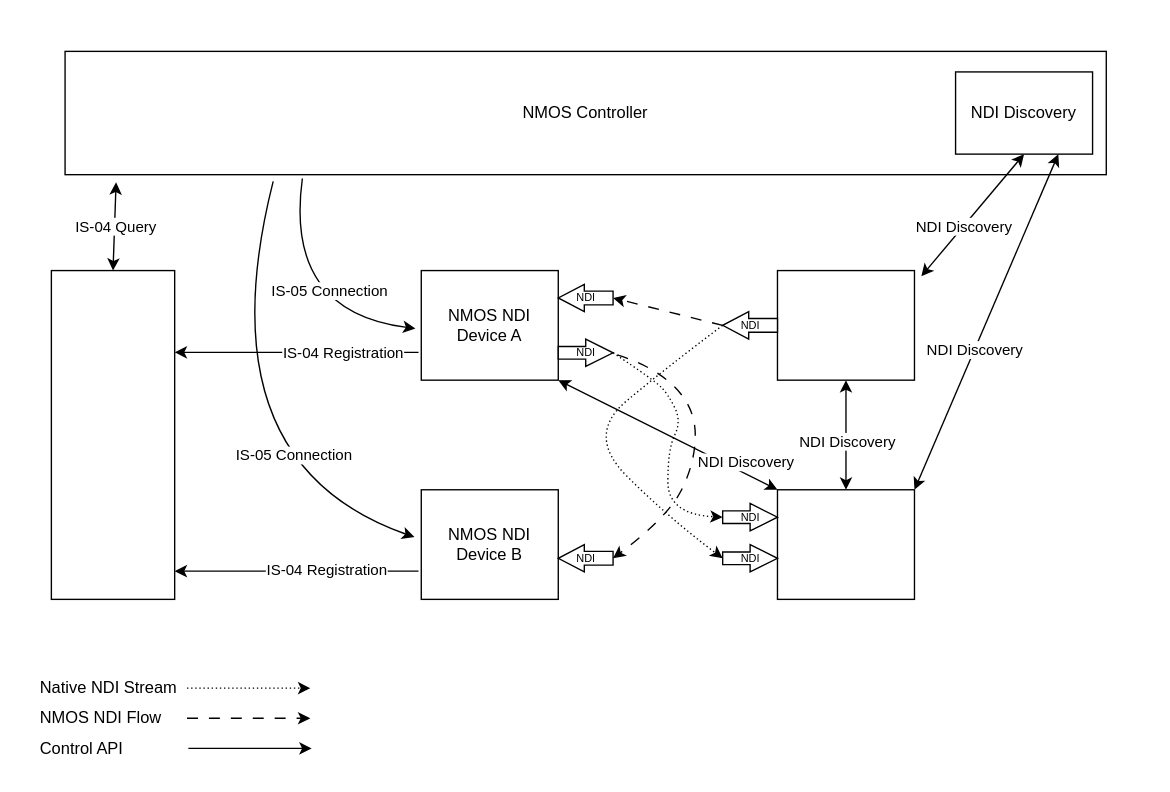
This 1170x792 diagram has some shape labels left out. Each missing label, with the centre of its shape:
Native NDI Device X: (x=845, y=324)
Native NDI Device Y: (x=845, y=543)
NMOS Registry: (x=112, y=434)
